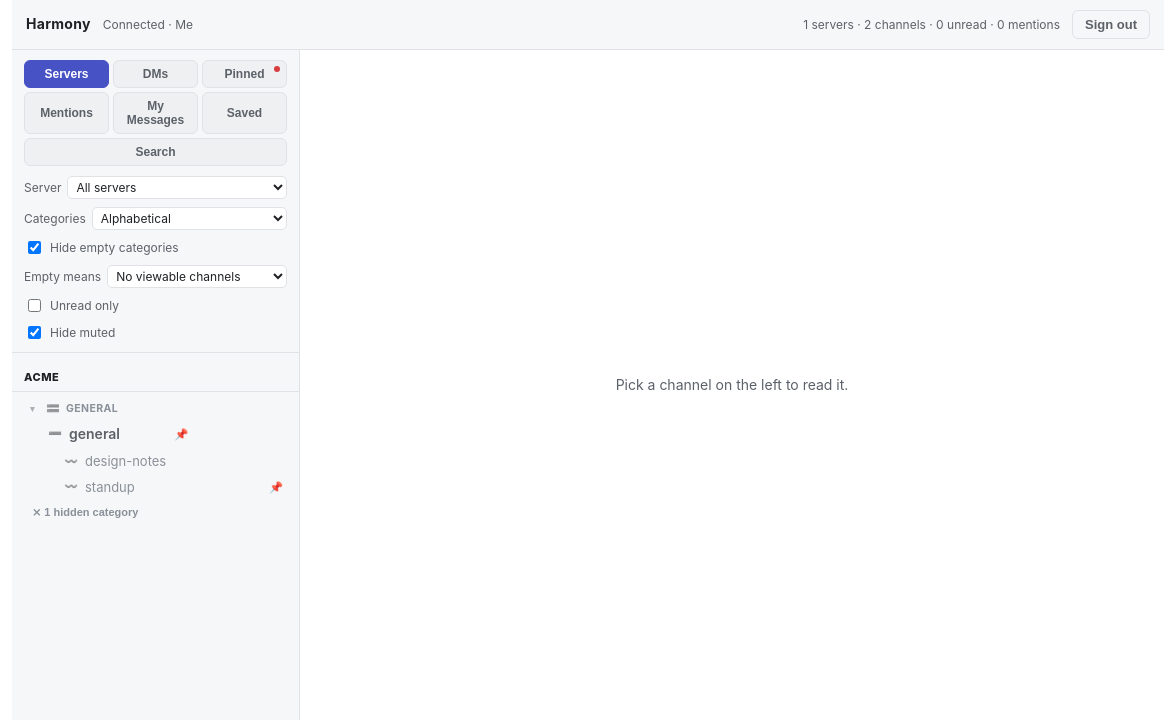
Test: channel pinning › marks a pinned channel row and lists it in the Pinned view
Click the button "Pinned" at (244, 74), box [202, 60, 287, 88]
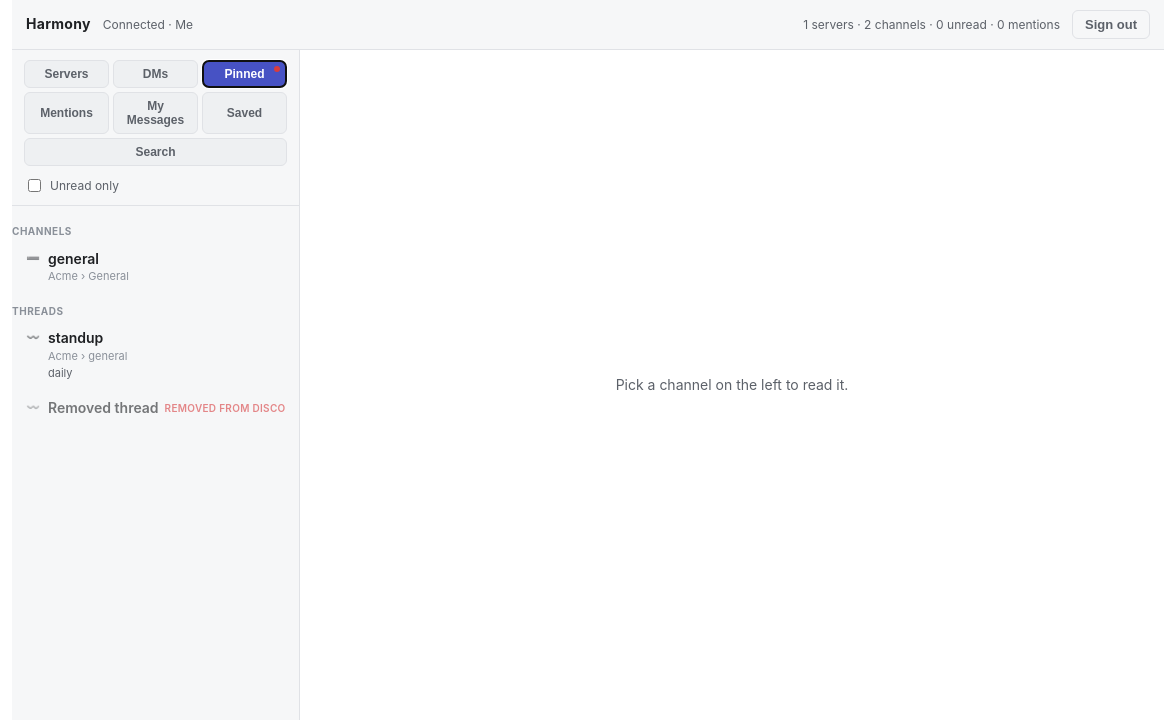
Now the text "Acme › General" is shown, box [48, 269, 129, 283]
